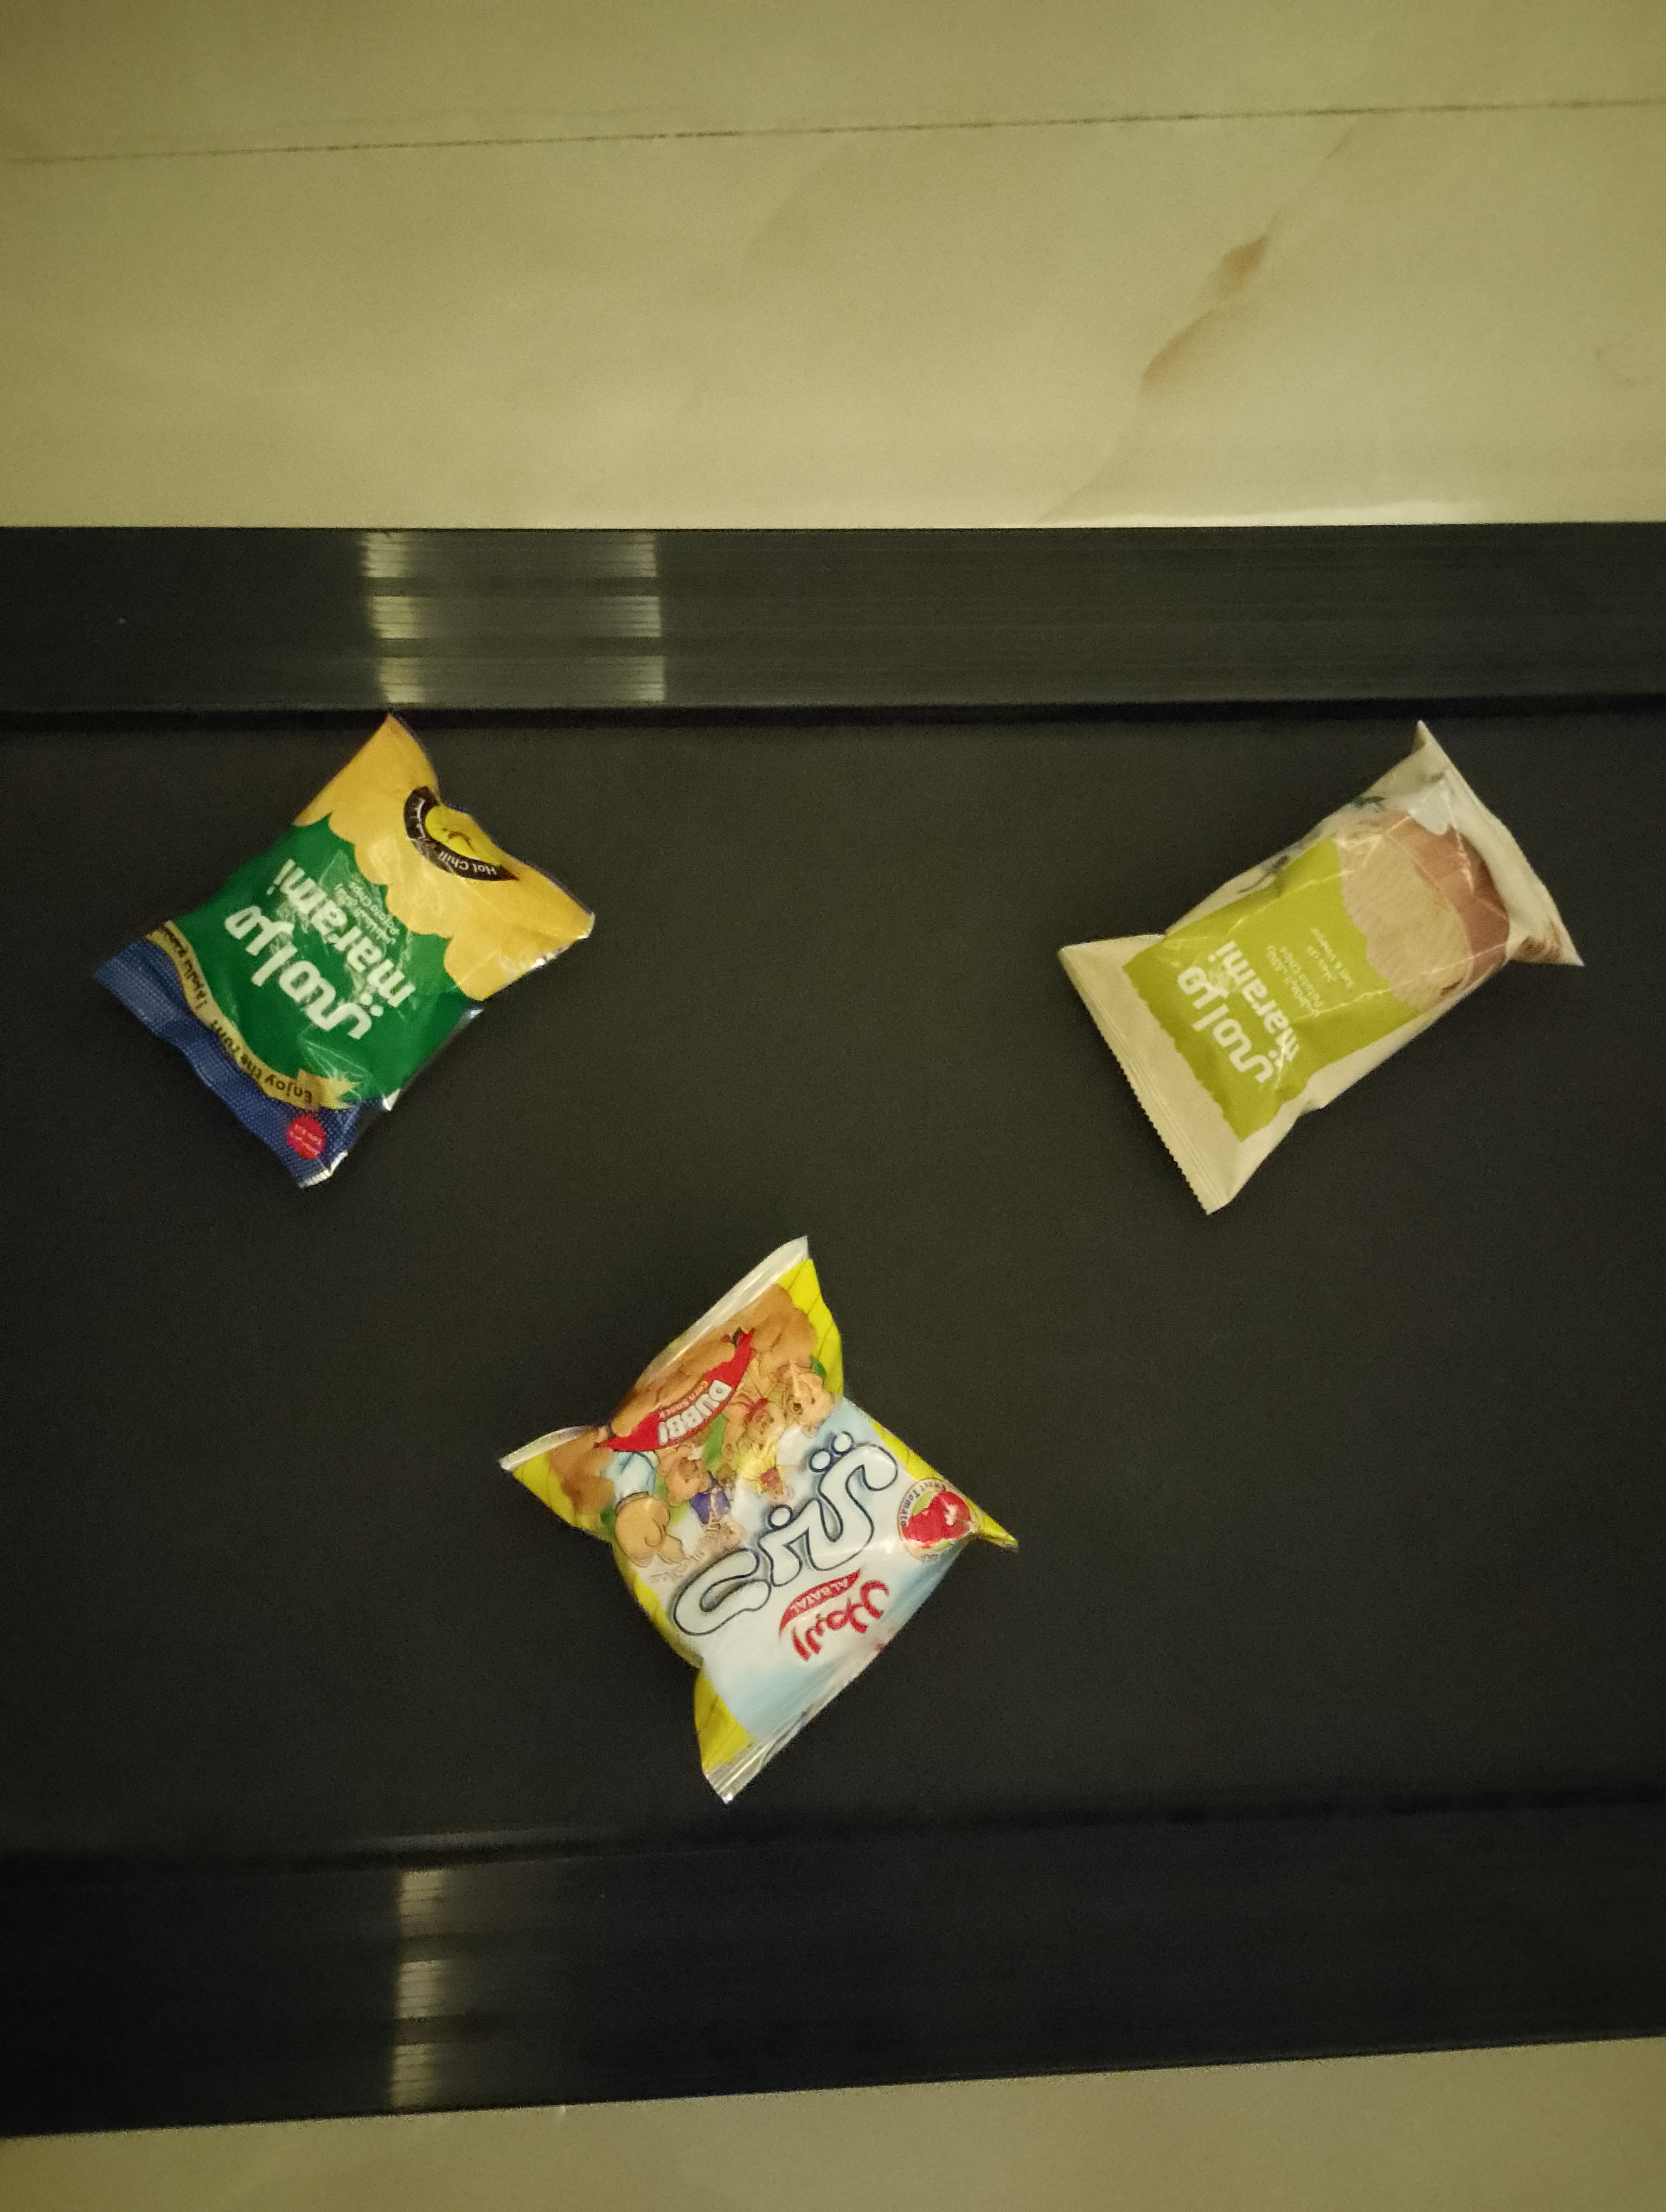albatal_dubbi_corn_snack: (495, 1235, 1020, 1808)
marami_hot_chili: (84, 705, 597, 1191)
marami_salt_&_vinegar: (1057, 717, 1587, 1215)
